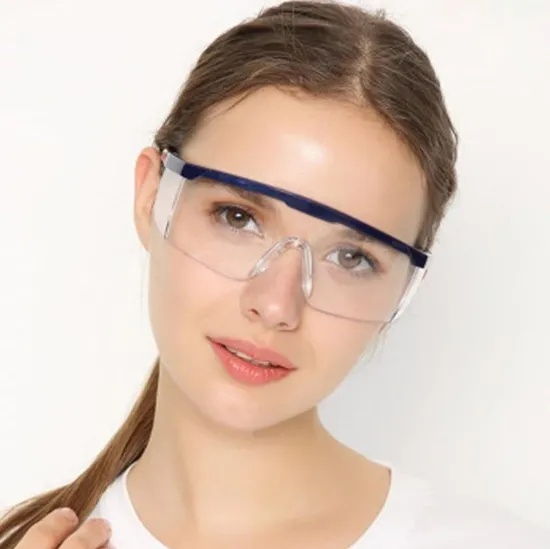safety_goggles: (110, 133, 465, 328)
